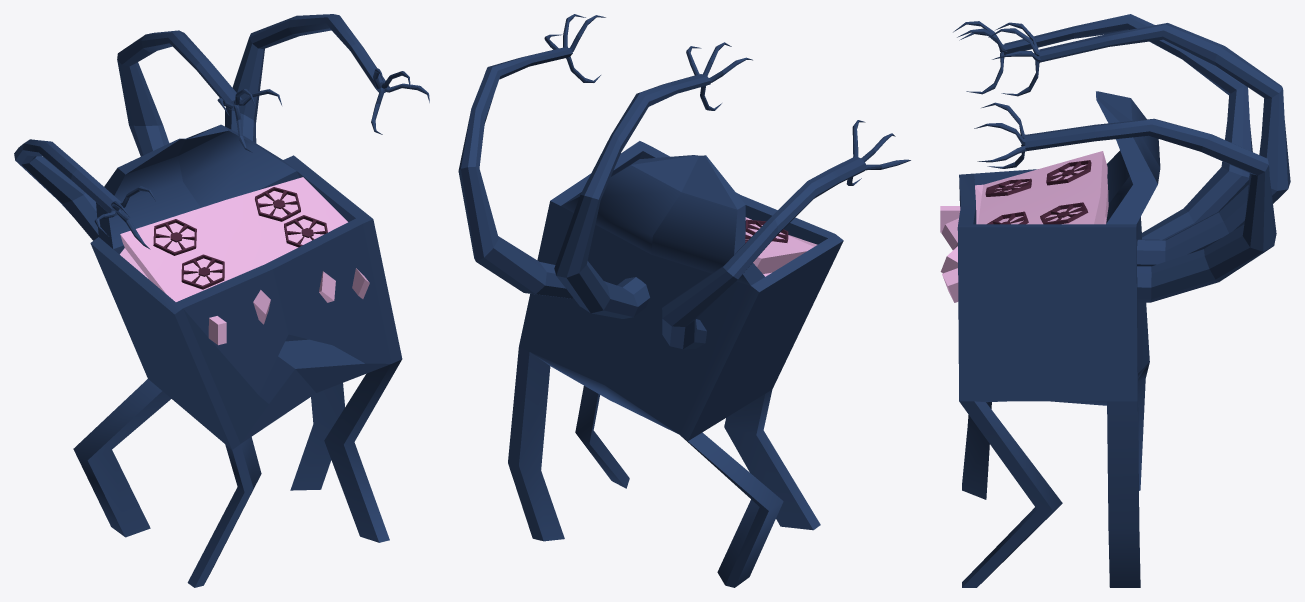
Rendered from Stove_off.fbx.
The picture shows the model from 3 angles, left to right: view 1: azimuth 30°, elevation 25°; view 2: azimuth 150°, elevation 25°; view 3: azimuth 270°, elevation 25°; orthographic projection. The views are drawn at different scales.
Parts seen in each view (by area): view 1: pCube6, pCylinder15, pCylinder16, pCylinder14; view 2: pCube6, pCylinder15, pCylinder16, pCylinder14; view 3: pCube6, pCylinder16, pCylinder15, pCylinder14.
Part boxes in pixels (x1,y1,x2,y2): pCube6: (73, 124, 402, 587); pCylinder15: (117, 30, 281, 156); pCylinder16: (225, 14, 429, 142); pCylinder14: (14, 139, 156, 249); pCube6: (508, 141, 843, 587); pCylinder15: (554, 42, 752, 318); pCylinder16: (458, 14, 605, 298); pCylinder14: (662, 120, 910, 349); pCube6: (940, 91, 1160, 587); pCylinder16: (974, 102, 1276, 302); pCylinder15: (988, 22, 1290, 266); pCylinder14: (953, 14, 1252, 239).
Bounding box in the file's own units: 7.05 × 9.31 × 5.88.
